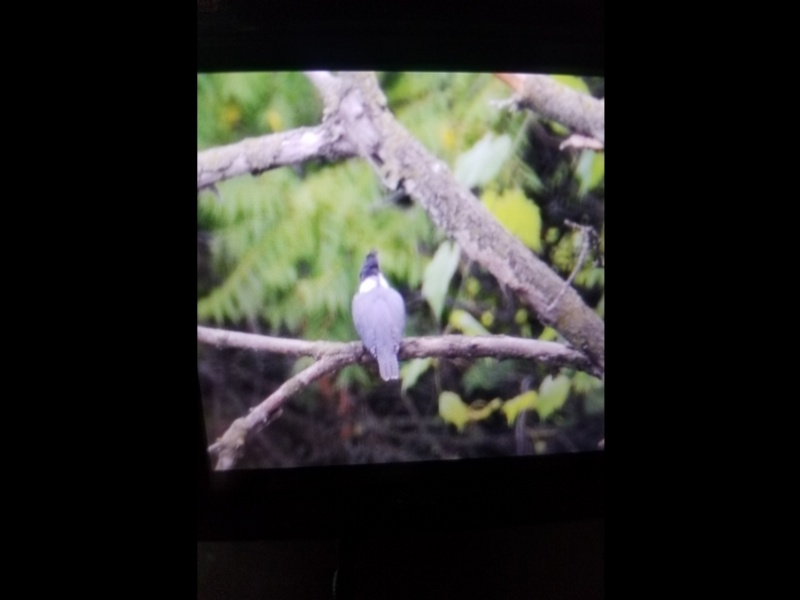kingfisher: (350, 250, 406, 384)
